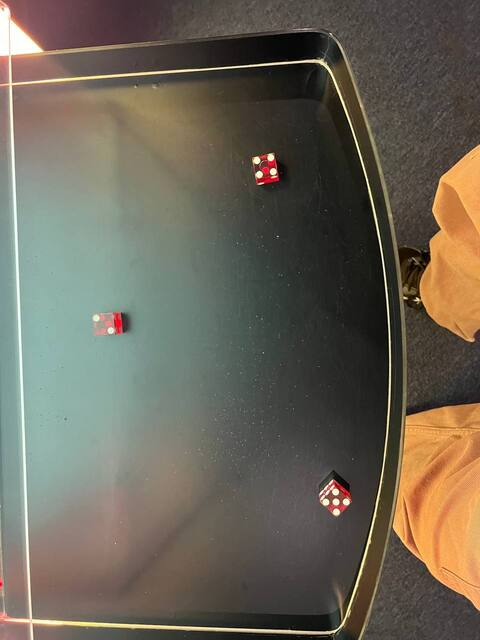five: (320, 486, 353, 519)
four: (250, 150, 279, 181)
two: (87, 307, 120, 338)
